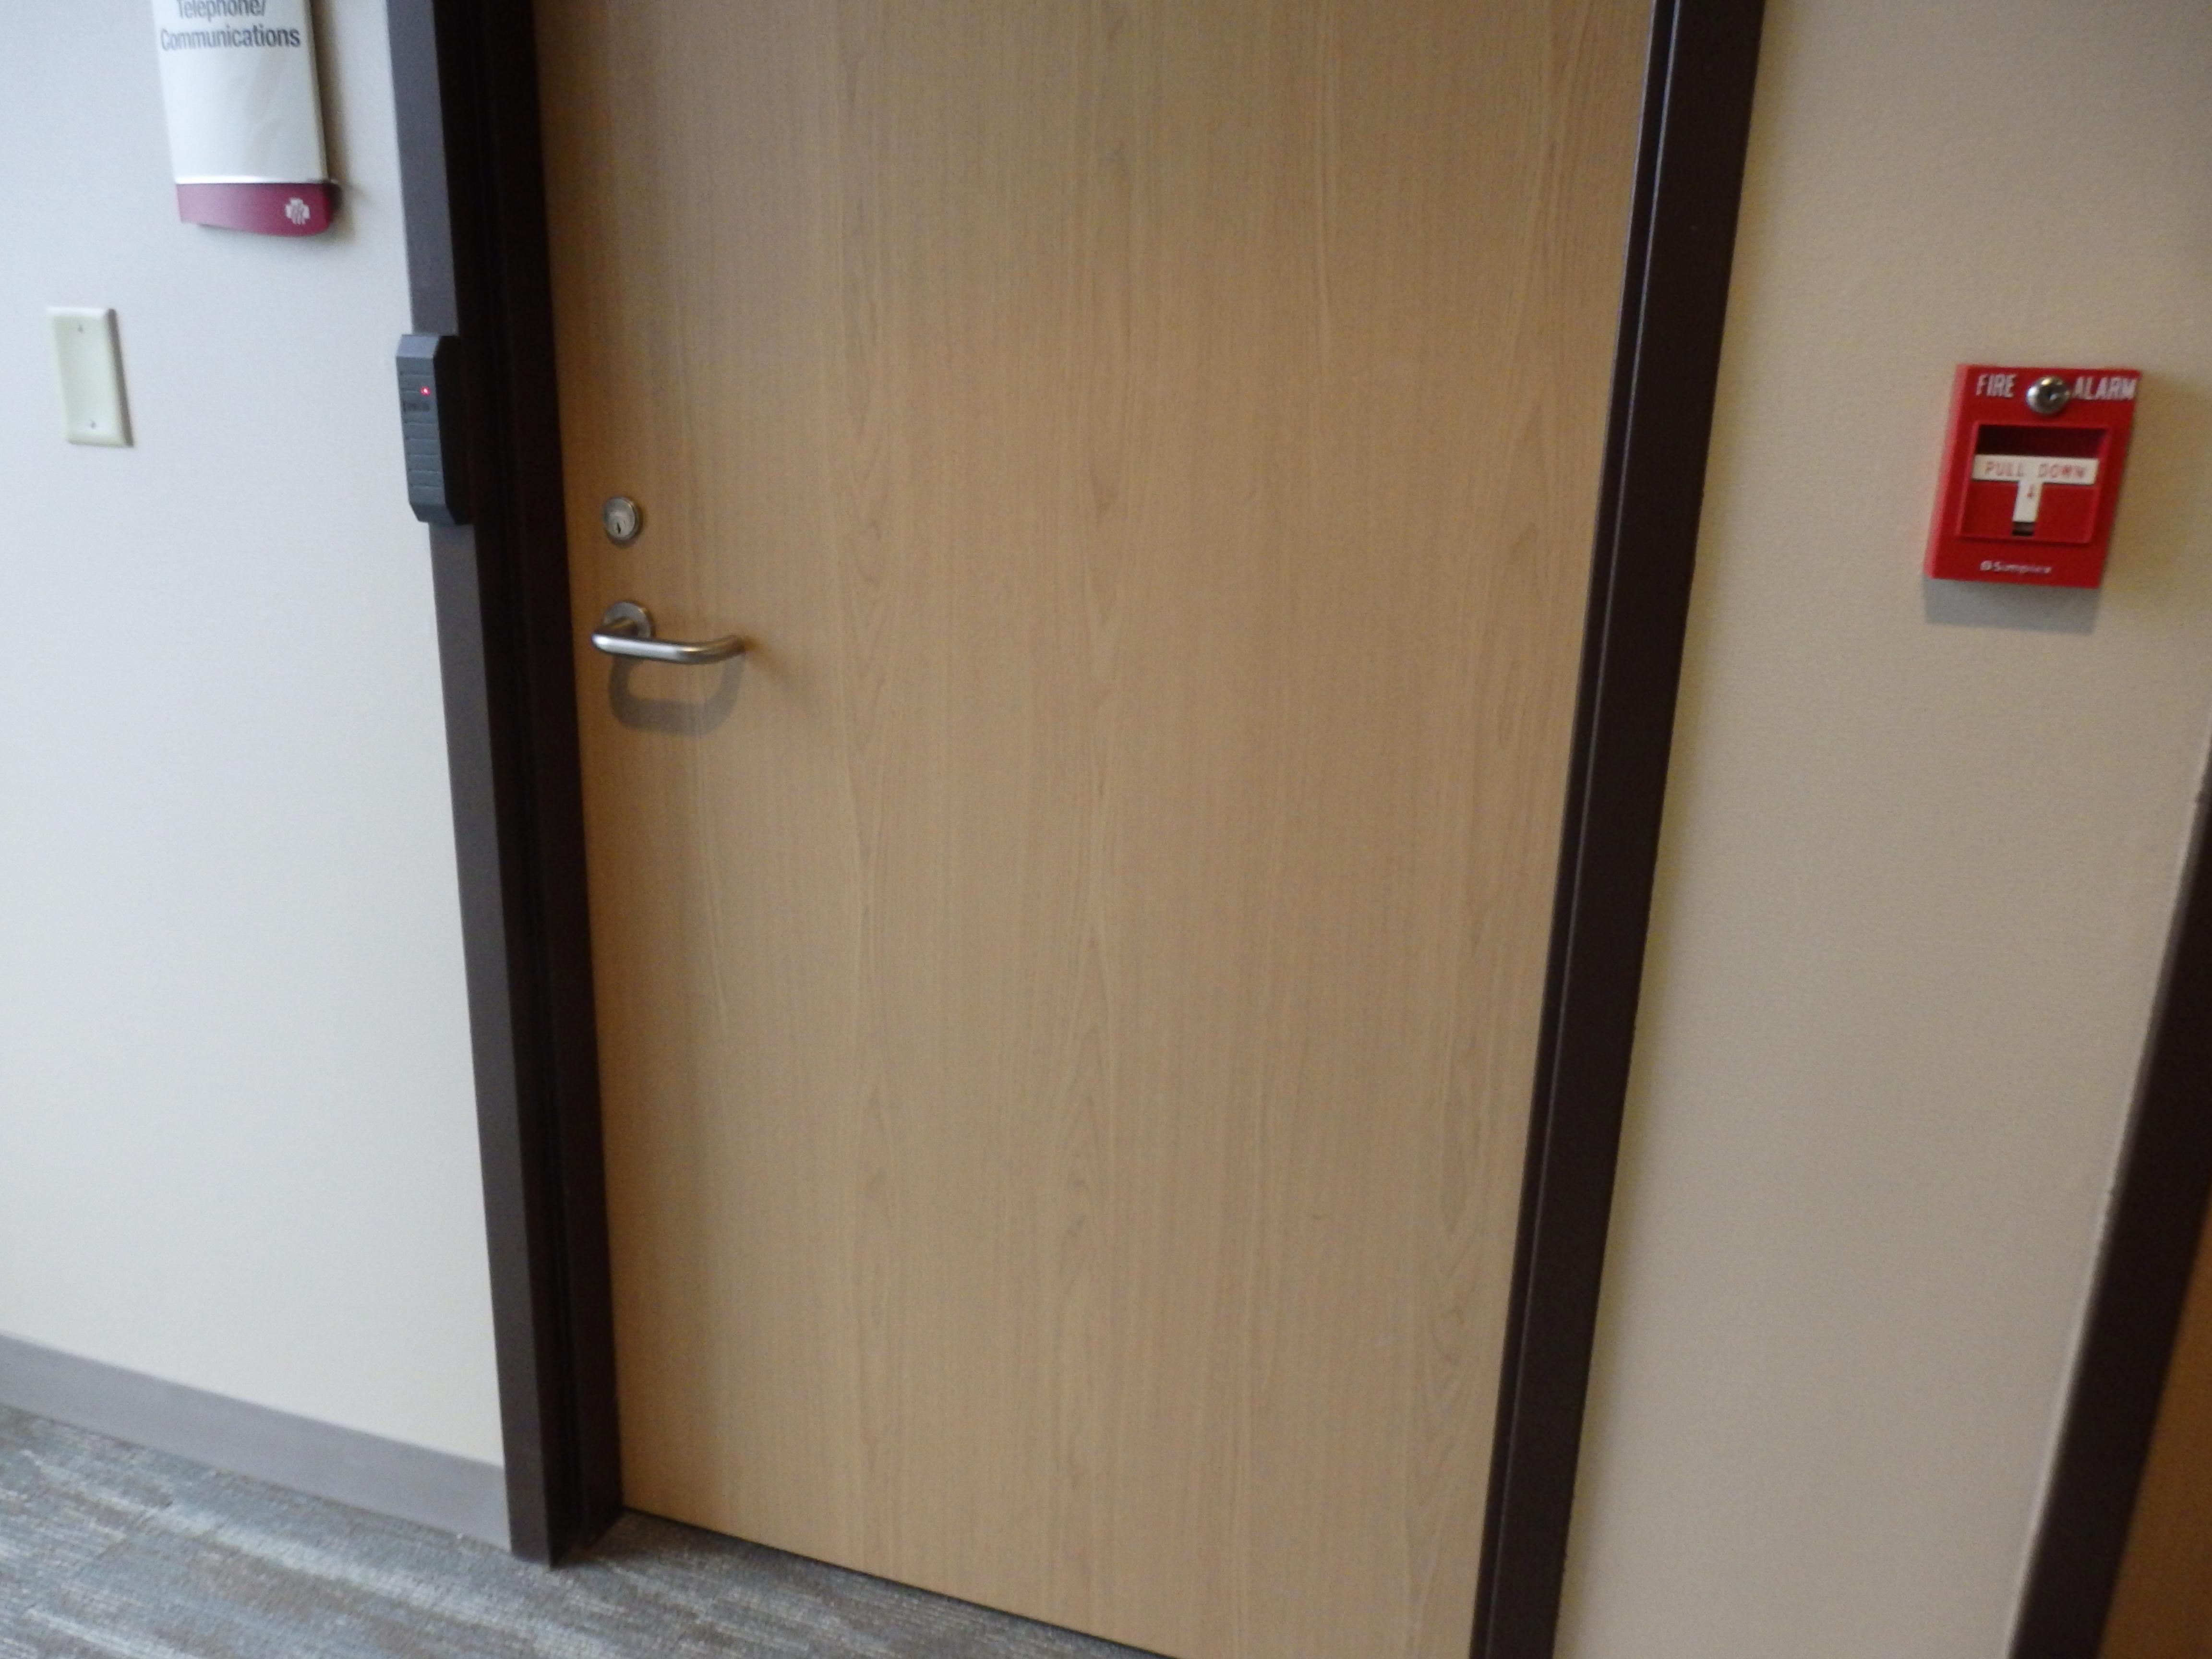door: (559, 0, 1620, 1649)
